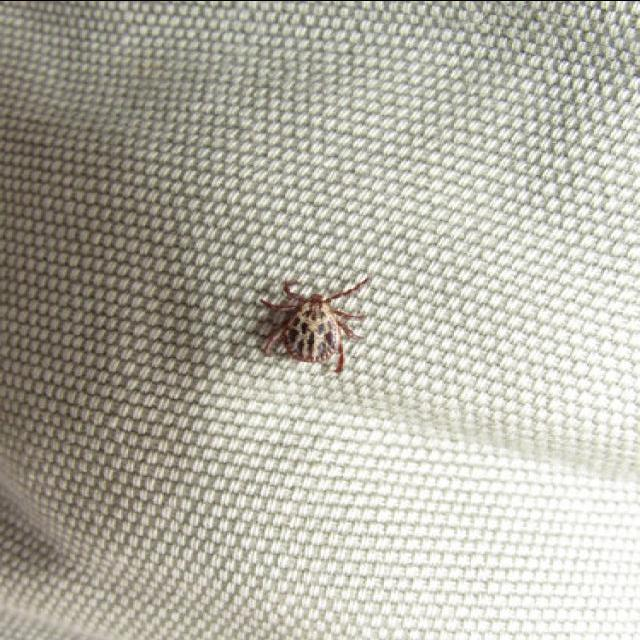Dermacentor Reticulatus-M: (258, 282, 358, 374)
